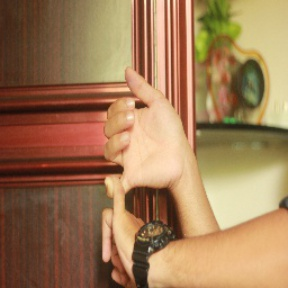S: (89, 64, 186, 287)
